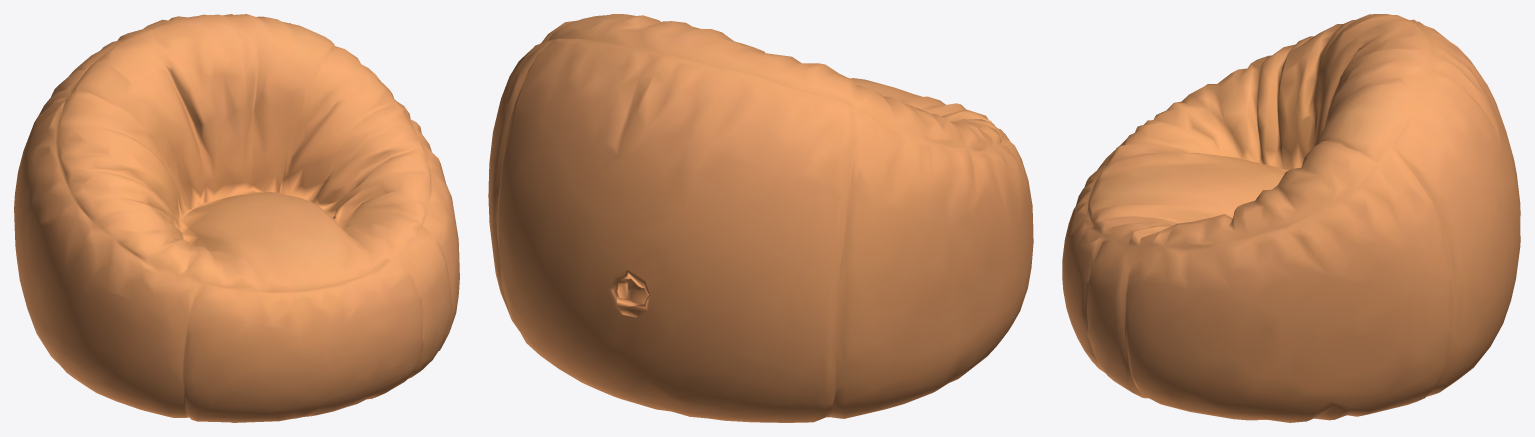
Rendered from library_beanbag.glb.
3 views of the same model, side by side, from view 1: azimuth 30°, elevation 25°; view 2: azimuth 150°, elevation 25°; view 3: azimuth 270°, elevation 25° (orthographic). The views are drawn at different scales.
Visible parts, largest first — view 1: tripo_node_cf8e3797-ef91-46e1-9975-7c2fc8e6e4eb; view 2: tripo_node_cf8e3797-ef91-46e1-9975-7c2fc8e6e4eb; view 3: tripo_node_cf8e3797-ef91-46e1-9975-7c2fc8e6e4eb.
Part boxes in pixels (x1,y1,x2,y2): tripo_node_cf8e3797-ef91-46e1-9975-7c2fc8e6e4eb: (14, 14, 459, 422); tripo_node_cf8e3797-ef91-46e1-9975-7c2fc8e6e4eb: (488, 14, 1033, 422); tripo_node_cf8e3797-ef91-46e1-9975-7c2fc8e6e4eb: (1062, 14, 1520, 422).
Size of the model in its own units: 0.8 by 0.5785 by 0.7969.
1 material, 1 textured.
